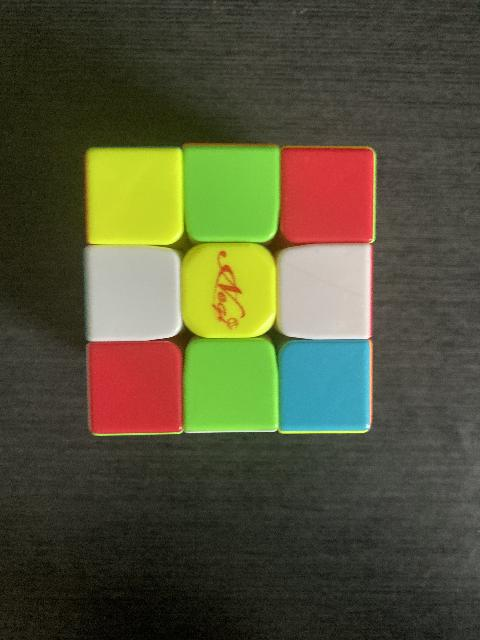Blue: (281, 346, 367, 428)
Orange: (188, 340, 276, 428)
Red: (284, 148, 376, 240), (92, 347, 180, 433)
White: (88, 248, 180, 338), (282, 250, 371, 338)
Yellow: (87, 148, 182, 240), (186, 146, 276, 238), (188, 246, 274, 336)
